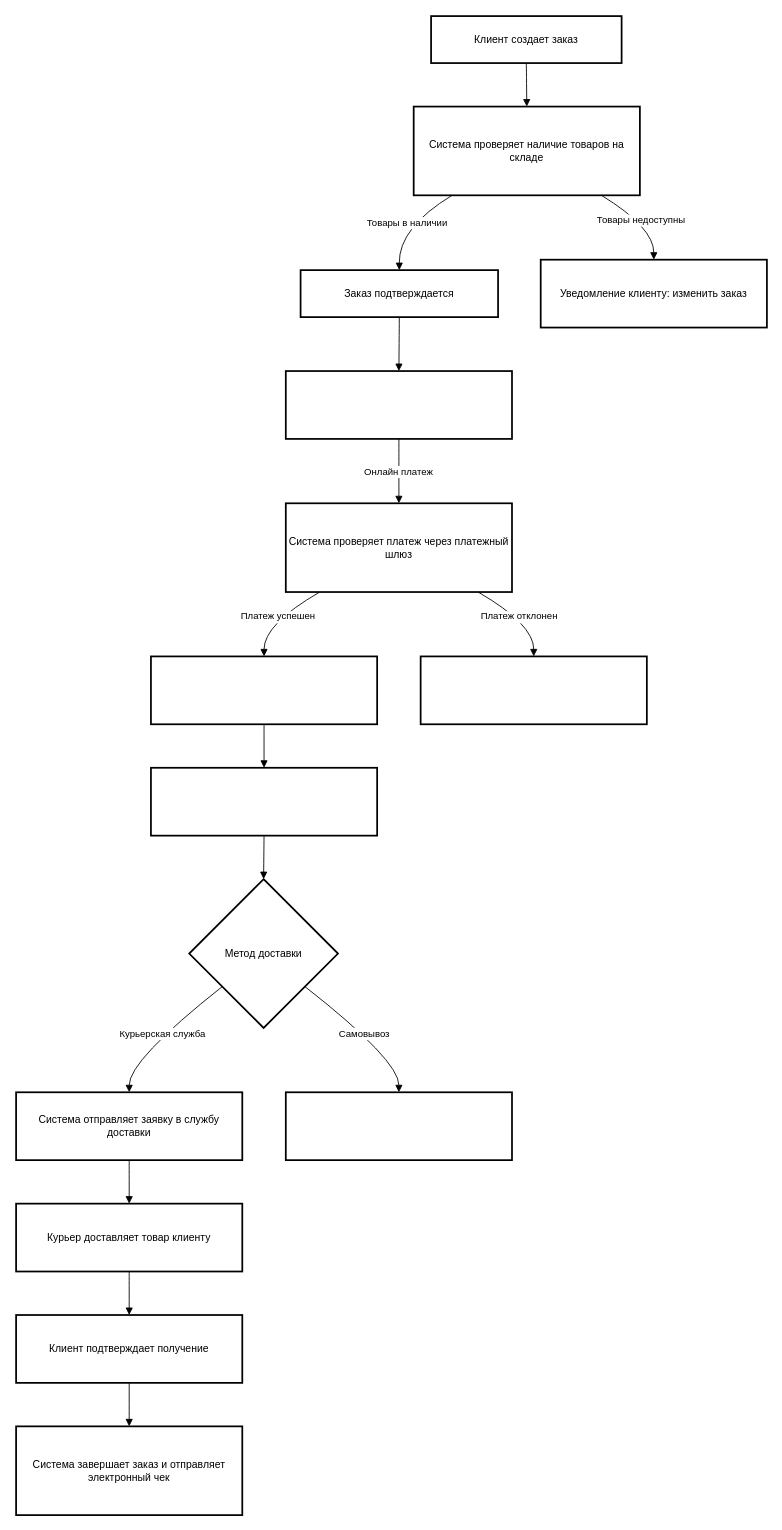
The diagram is 782 pixels wide and 1530 high, and some of its shapes have lost their labels. The centre of each missing label's shape, as x and y in pixels:
"Заказ переходит к следующему этапу" belongs at [264,690].
"Клиент выбирает способ оплаты" belongs at [398,404].
"Склад начинает сборку заказа" belongs at [264,801].
"Уведомление клиенту о готовности заказа" belongs at [398,1126].
"Уведомление клиенту: повторить оплату" belongs at [533,690].
